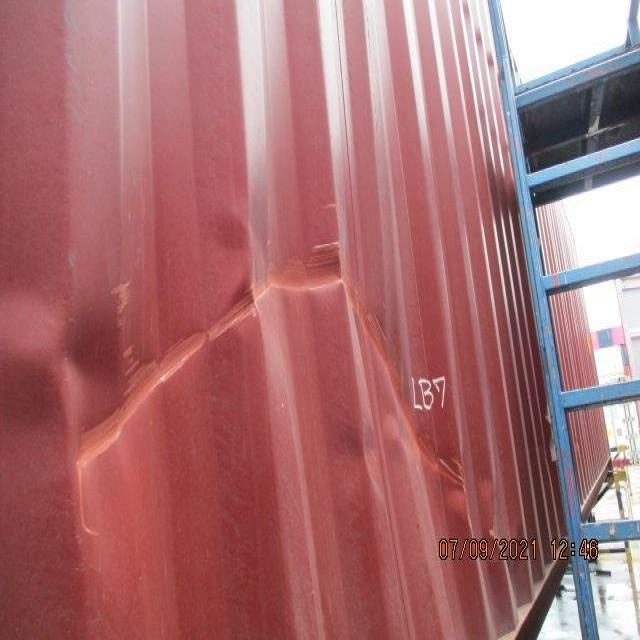dent: (1, 180, 535, 586)
